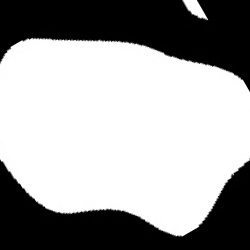crack: (183, 1, 209, 19)
spot: (0, 40, 249, 237)
